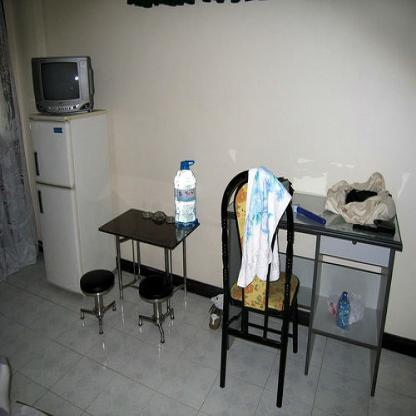bottle: (173, 158, 197, 230), (335, 289, 351, 330)
chair: (219, 168, 300, 410)
tvmonitor: (30, 54, 96, 116)
